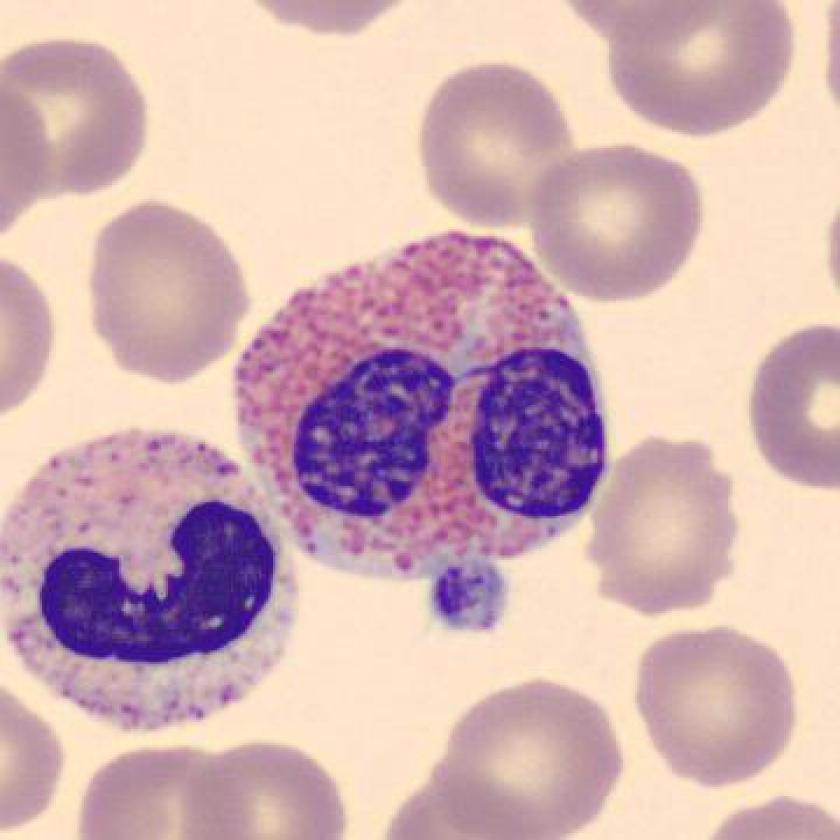eosinophil: (223, 219, 631, 598)
